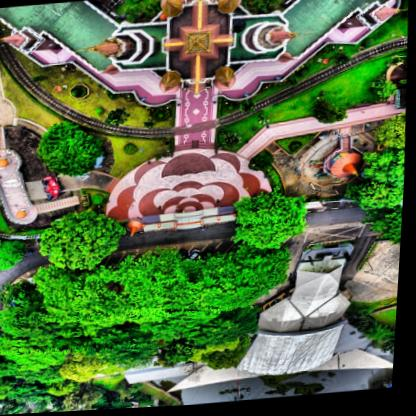tree-top: (0, 273, 124, 369), (34, 203, 134, 278), (231, 182, 314, 256), (195, 253, 290, 309), (37, 118, 111, 182), (351, 141, 409, 214), (124, 279, 180, 337), (93, 324, 157, 373), (143, 247, 197, 294), (210, 341, 263, 375), (367, 203, 406, 248), (0, 232, 33, 276), (310, 100, 354, 130), (65, 353, 107, 384), (63, 389, 109, 413), (168, 342, 208, 369), (369, 75, 399, 107), (251, 149, 278, 179), (368, 325, 395, 351), (50, 379, 83, 399), (0, 374, 20, 404), (0, 401, 30, 416)
